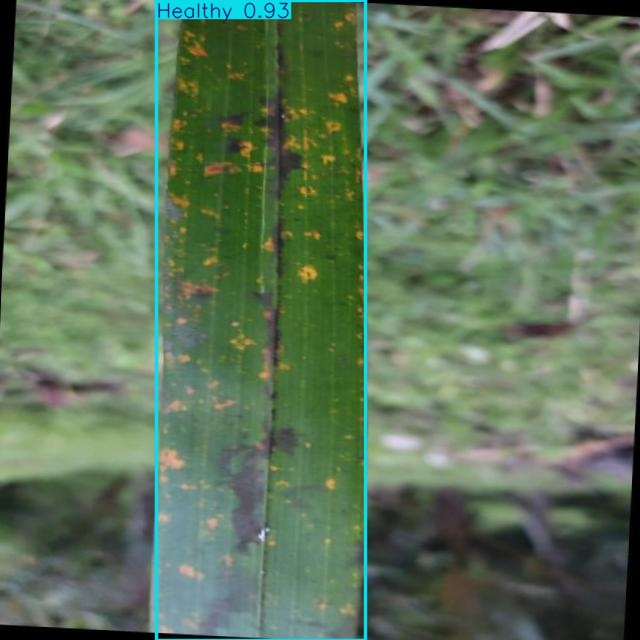Healthy: (157, 0, 366, 640)
